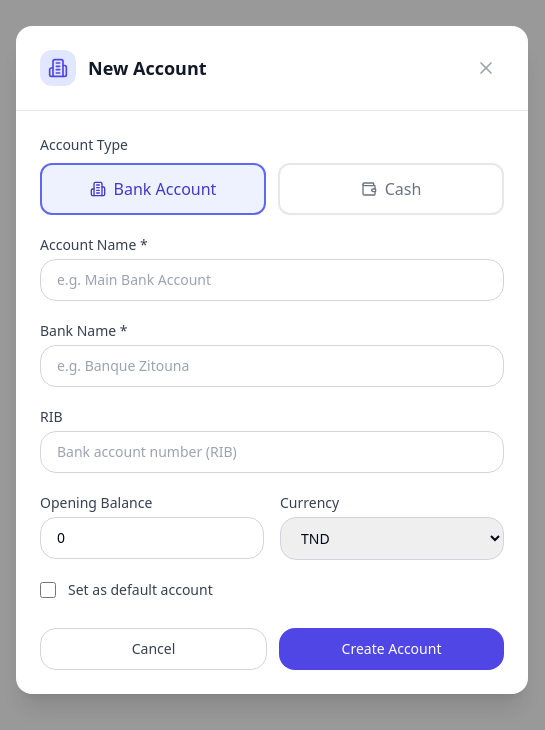
Test: AccountModal › Form Validation › should show error when bank name is empty for BANK type
The image size is (545, 730).
Step 1. Type "Test Account" into the field with placeholder "e.g. Main Bank Account" → (272, 280), box x1=40 y1=259 x2=504 y2=301
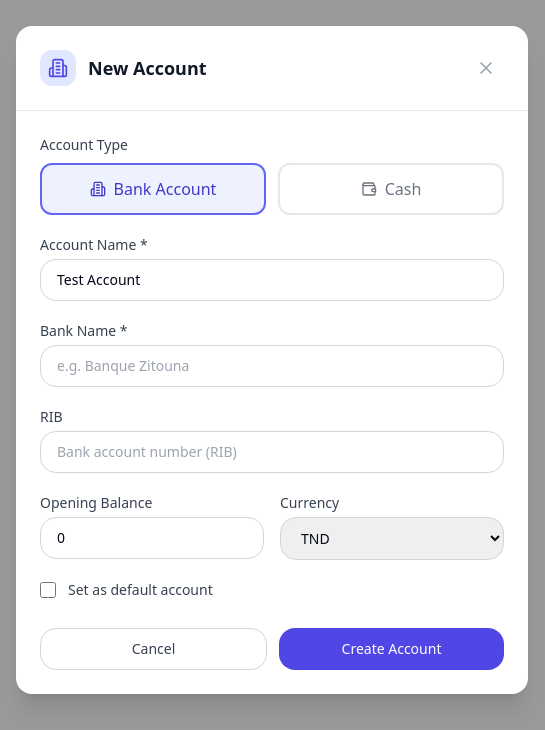
Step 2. Click the button "Create Account" → (392, 649), box x1=279 y1=628 x2=504 y2=670
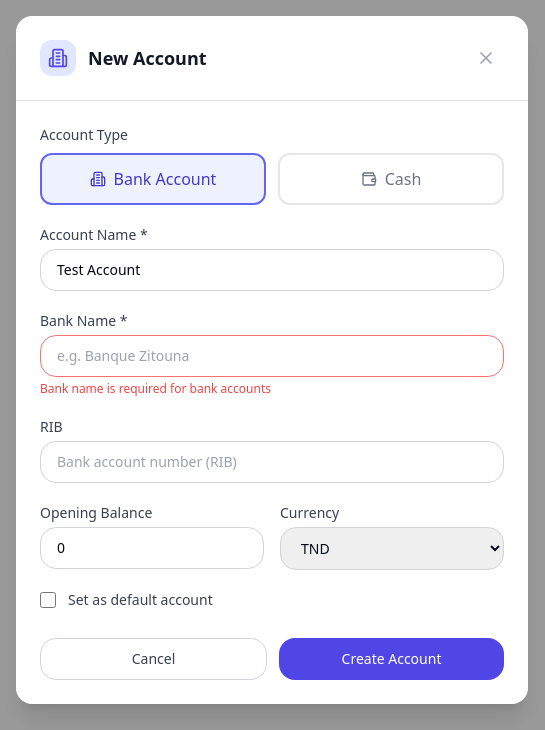
Check: the text "Bank name is required for bank accounts" is shown, box x1=40 y1=380 x2=271 y2=397
